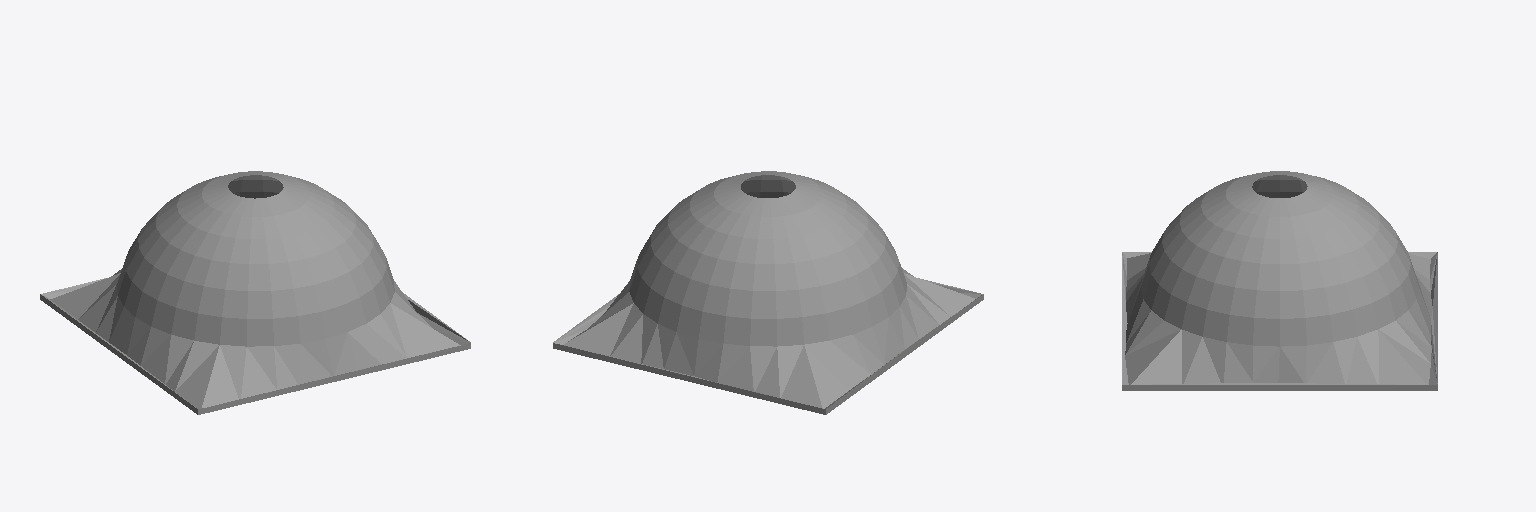
Rendered from dach2.obj.
3 views of the same model, side by side, from view 1: azimuth 30°, elevation 25°; view 2: azimuth 150°, elevation 25°; view 3: azimuth 270°, elevation 25° (orthographic).
Visible parts, largest first — view 1: Cube; view 2: Cube; view 3: Cube.
Boxes of the visible parts, box(x1,y1,x2,y2) form: Cube: box(40, 171, 470, 414); Cube: box(553, 171, 983, 414); Cube: box(1122, 171, 1437, 390).
Bounding box in the file's own units: 20.02 × 9.68 × 20.01.